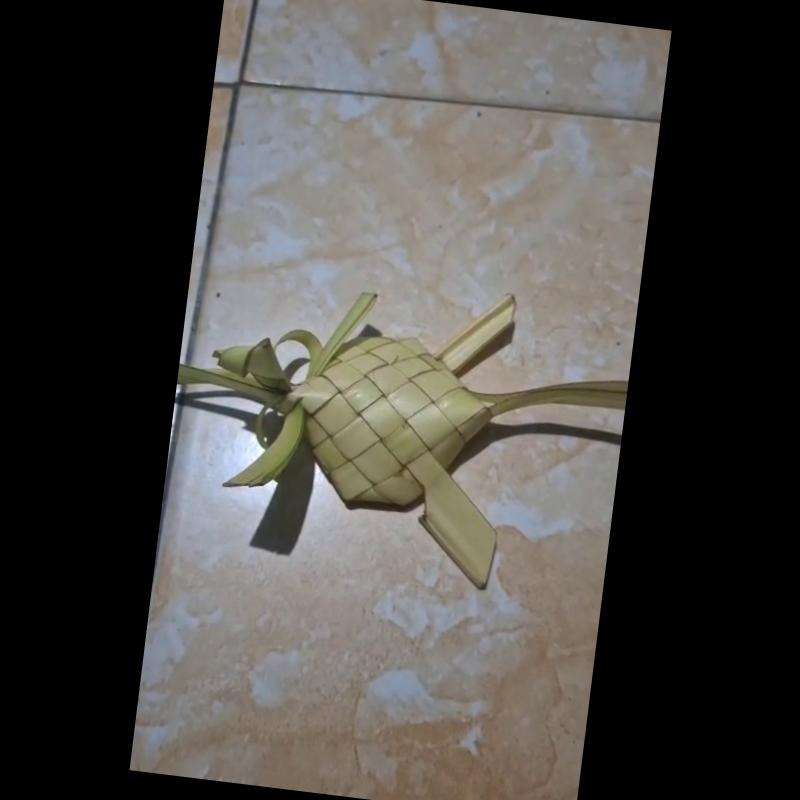Tipat Dampulan: (175, 278, 629, 594)
